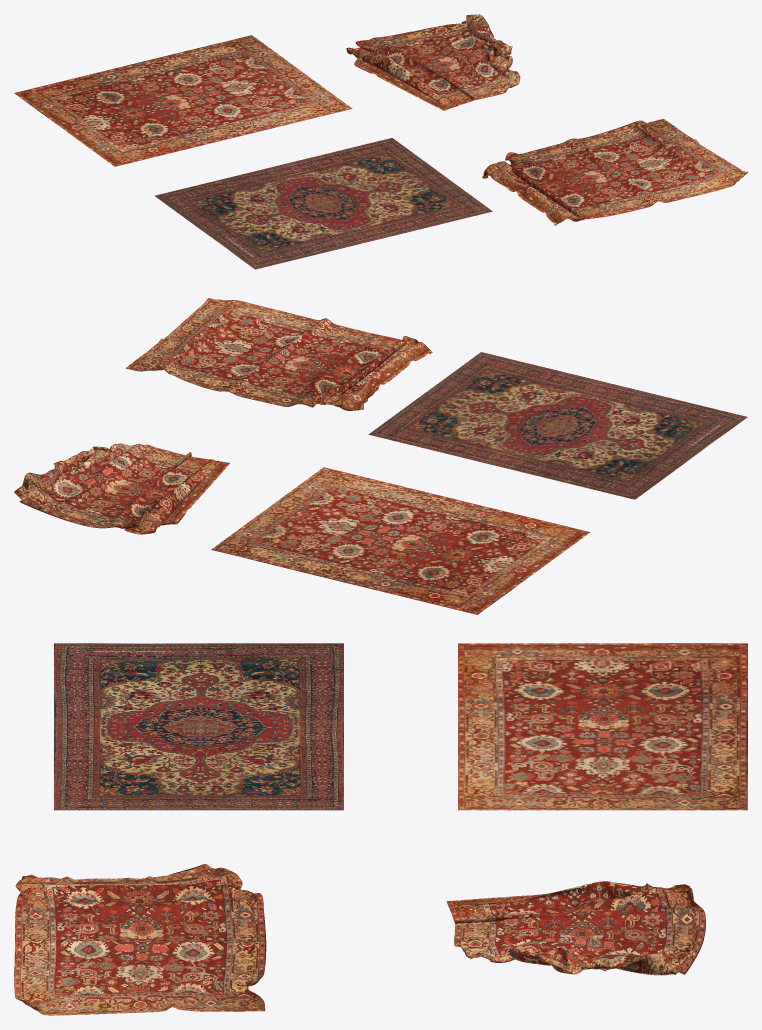
Rendered from Rugs.FBX.
3 renders of one model, top to bottom at view 1: azimuth 30°, elevation 25°; view 2: azimuth 150°, elevation 25°; view 3: azimuth 270°, elevation 25°, orthographic. The views are drawn at different scales.
Visible parts, largest first — view 1: RugClean (×2), RugMessed2, RugMessed; view 2: RugClean (×2), RugMessed2, RugMessed; view 3: RugClean (×2), RugMessed2, RugMessed.
Part boxes in pixels (x1,y1,x2,y2): RugClean (×2): [14, 35, 492, 269]; RugMessed2: [482, 118, 747, 225]; RugMessed: [346, 14, 520, 110]; RugClean (×2): [211, 352, 747, 614]; RugMessed2: [125, 298, 432, 410]; RugMessed: [14, 443, 229, 534]; RugClean (×2): [54, 643, 747, 810]; RugMessed2: [14, 864, 266, 1015]; RugMessed: [446, 881, 705, 975].
Size of the model in its own units: 1460 by 58.48 by 1321.
